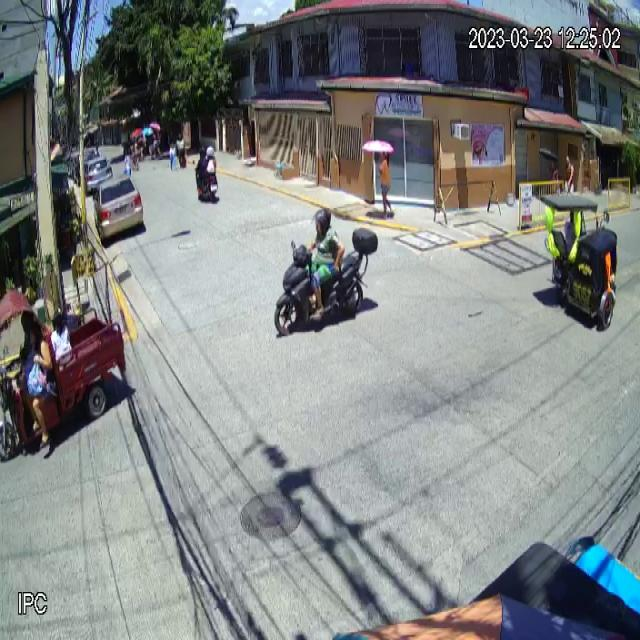Motorcycle: (275, 235, 377, 340)
Tricycle: (541, 188, 616, 330)
